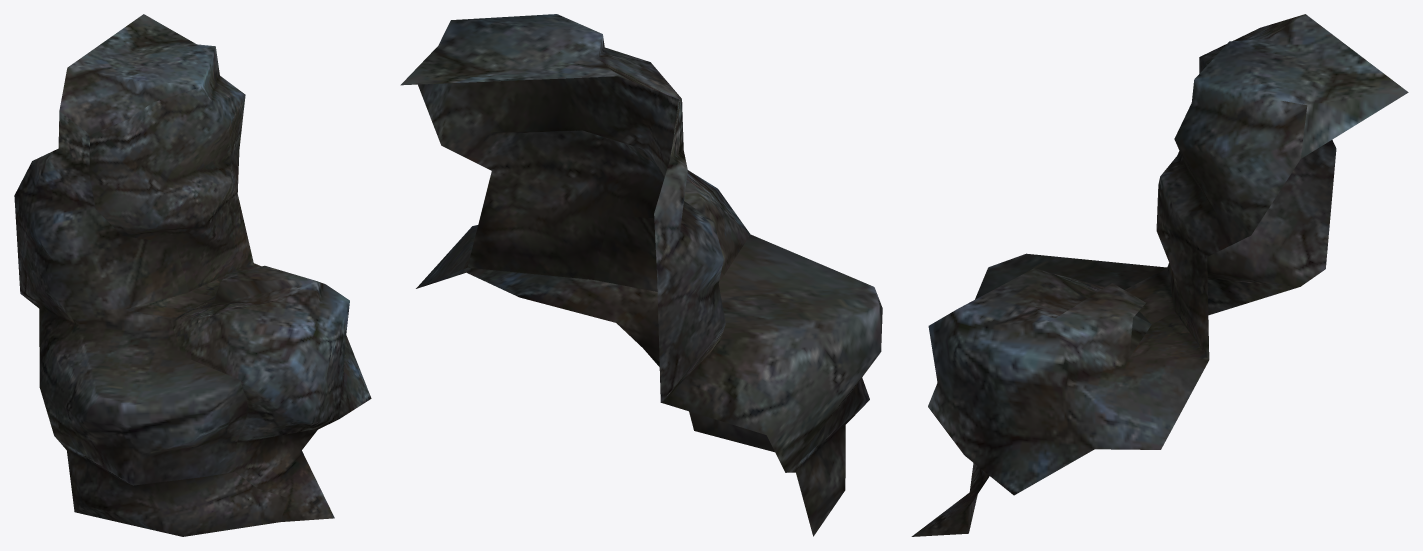
Rendered from S_Rock_Yellow034_24.FBX.
The picture shows the model from 3 angles, left to right: view 1: azimuth 30°, elevation 25°; view 2: azimuth 150°, elevation 25°; view 3: azimuth 270°, elevation 25°; orthographic projection. The views are drawn at different scales.
Parts seen in each view (by area): view 1: S_Rock_Yellow034_24; view 2: S_Rock_Yellow034_24; view 3: S_Rock_Yellow034_24.
Boxes of the visible parts, x1,y1,x2,y2 form: S_Rock_Yellow034_24: (14, 14, 371, 536); S_Rock_Yellow034_24: (400, 14, 882, 536); S_Rock_Yellow034_24: (911, 14, 1408, 536).
Size of the model in its own units: 159 by 187 by 195.
